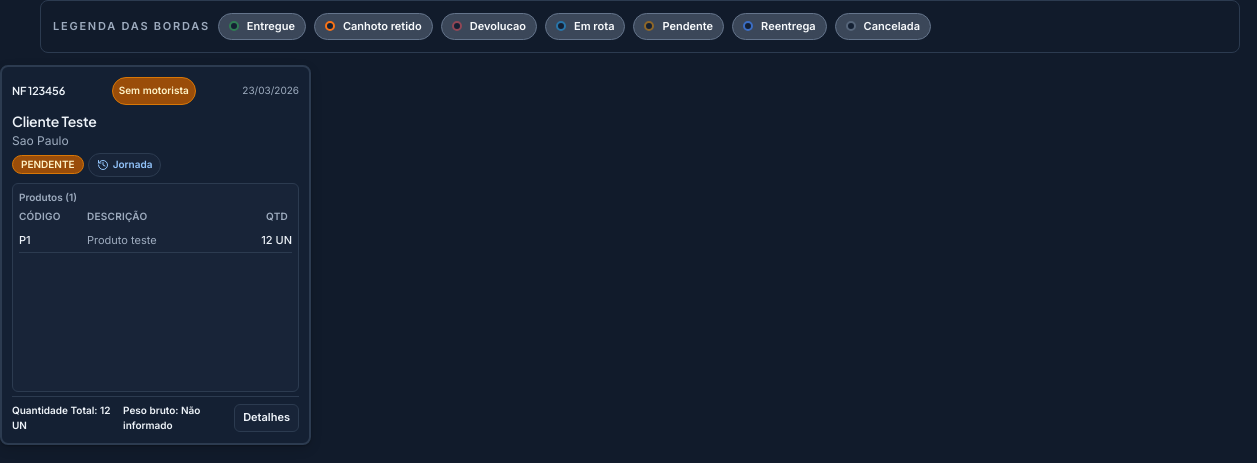
Test: CardDanfes › usa o representante do cadastro e não transforma peso ausente em zero
This screenshot has width=1257, height=463.
Expected: the text "Peso bruto: Não informado" is shown, [123,404,200,430]
What coordinates should you click on to do the following:
click the button with aria-label "Mostrar detalhes da NF 123456"
I would click on:
 (267, 418)
Its box is [234,404,299,432].
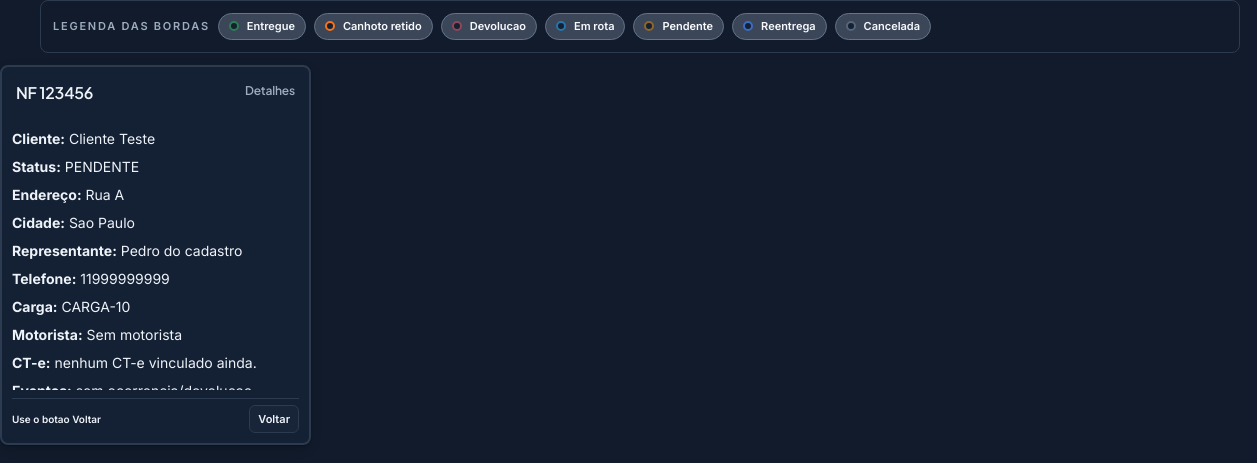
Now the text "Rua A" is shown, box [86,186,124,202]
Now the text "Pedro do cadastro" is shown, box [121,242,242,258]
